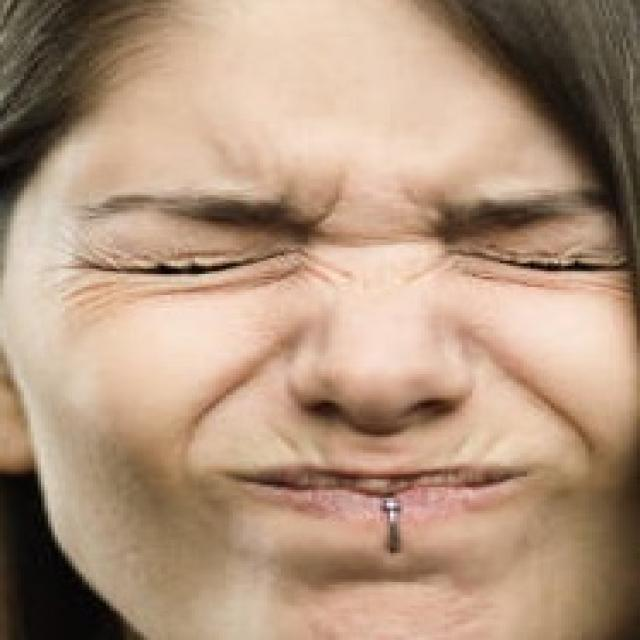Anxiety: (0, 5, 637, 637)
